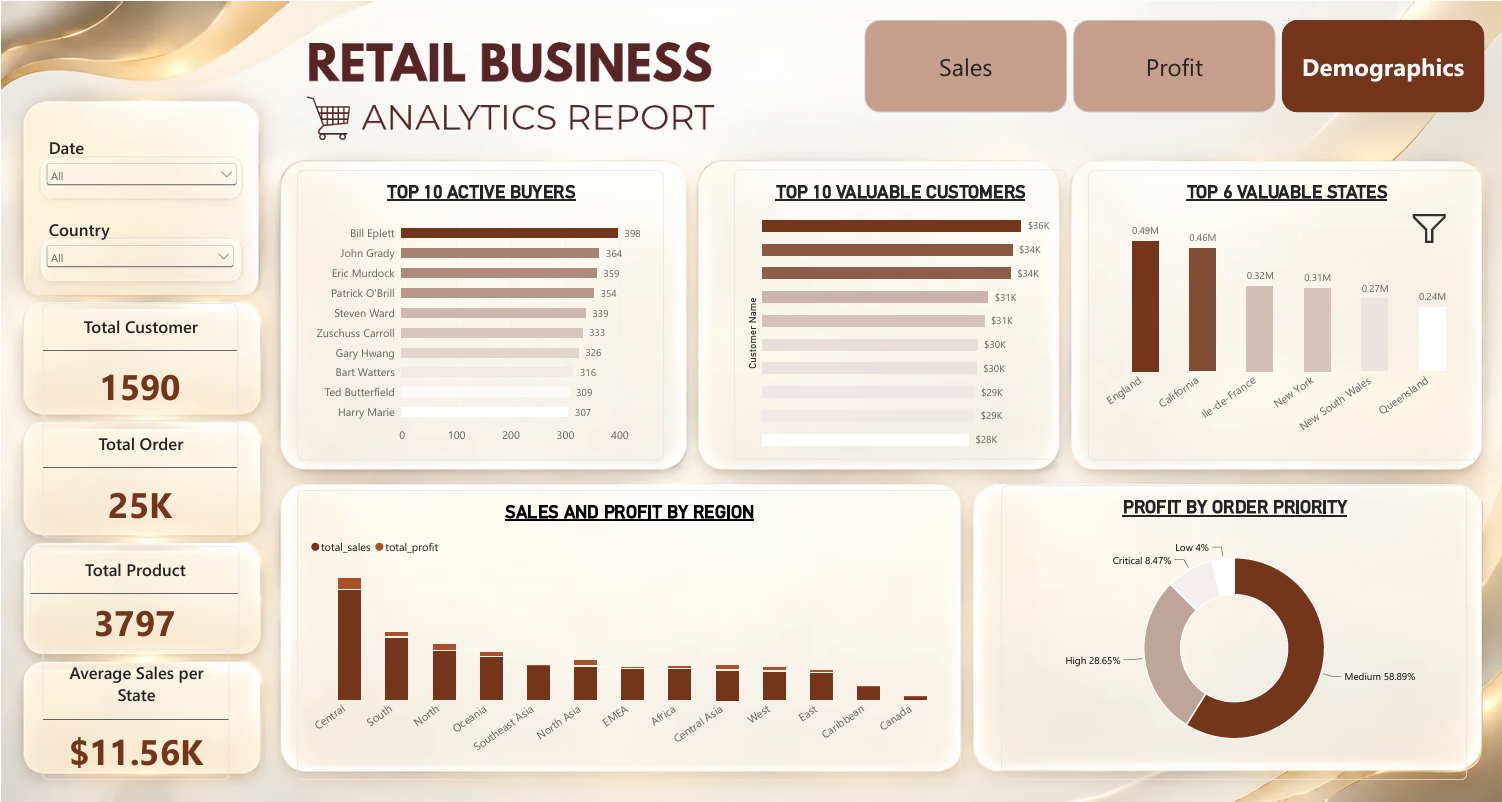

The page's visual inventory and layout, read from the dashboard file:
{"tool":"powerbi","page":{"name":"Demographics","canvas":[1920,1080],"ordinal":2},"visuals":[{"type":"pageNavigator","box":[1103.8,49.1,793.3,117.8],"z":0},{"type":"card","title":"Total Customer","fields":{"Values":["Calculated_table.customer_count"]},"box":[52.5,410.8,249.1,150.3],"z":2},{"type":"card","title":"Total Order","fields":{"Values":["Calculated_table.Order_count"]},"box":[52.5,561,249.1,150.3],"z":3},{"type":"card","title":"Total Product","fields":{"Values":["Calculated_table.product_count"]},"box":[36.2,722.1,267.8,132.1],"z":4},{"type":"card","title":"Average Sales per State","fields":{"Values":["Calculated_table.average_sales_state"]},"box":[52.5,854.2,238.9,166.5],"z":5},{"type":"clusteredBarChart","title":"TOP 10 VALUABLE CUSTOMERS","fields":{"Category":["customer_table.Customer ID","customer_table.Customer Name"],"Y":["Calculated_table.total_sales"]},"box":[936.8,239.8,425.1,370.8],"z":7},{"type":"columnChart","fields":{"Category":["location_table.State"],"Y":["Calculated_table.Sales_rank"]},"box":[1389.8,240.7,506.7,371],"z":8},{"type":"donutChart","title":"PROFIT BY ORDER PRIORITY","fields":{"Category":["sales_table.Order Priority"],"Y":["Calculated_table.total_profit"]},"box":[1279.4,644.2,595.4,376.4],"z":9},{"type":"columnChart","title":"SALES AND PROFIT BY REGION","fields":{"Category":["location_table.Region"],"Y":["Calculated_table.total_sales","Calculated_table.total_profit"]},"box":[378.2,649.7,848.7,371],"z":10},{"type":"slicer","fields":{"Values":["Rank_demo.Rank_demo"]},"box":[1755.4,284.1,141.2,63.3],"z":12},{"type":"clusteredBarChart","title":"TOP 10 ACTIVE BUYERS","fields":{"Category":["customer_table.Customer Name"],"Y":["Calculated_table.total_quantity"]},"box":[378.2,240.7,468.7,371],"z":13},{"type":"slicer","fields":{"Values":["location_table.Country"]},"box":[52.5,302.2,249.7,90.5],"z":15},{"type":"slicer","fields":{"Values":["date_table.Date.Variation.Date Hierarchy.Year","date_table.Date.Variation.Date Hierarchy.Month"]},"box":[52.5,197.3,253.4,86.9],"z":16}]}

Visuals, with their boxes on the page's 1920x1080 design canvas (x1, y1, x2, y2). These are canvas units, not pixel positions in the 1502x802 screenshot, which may show the page scaled, cropped or inside an application window:
pageNavigator: 1104 49 1897 167
"Total Customer" card: 52 411 302 561
"Total Order" card: 52 561 302 711
"Total Product" card: 36 722 304 854
"Average Sales per State" card: 52 854 291 1021
"TOP 10 VALUABLE CUSTOMERS" clusteredBarChart: 937 240 1362 611
columnChart - location_table.State x Calculated_table.Sales_rank: 1390 241 1896 612
"PROFIT BY ORDER PRIORITY" donutChart: 1279 644 1875 1021
"SALES AND PROFIT BY REGION" columnChart: 378 650 1227 1021
slicer - Rank_demo.Rank_demo: 1755 284 1897 347
"TOP 10 ACTIVE BUYERS" clusteredBarChart: 378 241 847 612
slicer - location_table.Country: 52 302 302 393
slicer - date_table.Date.Variation.Date Hierarchy.Year x date_table.Date.Variation.Date Hierarchy.Month: 52 197 306 284
